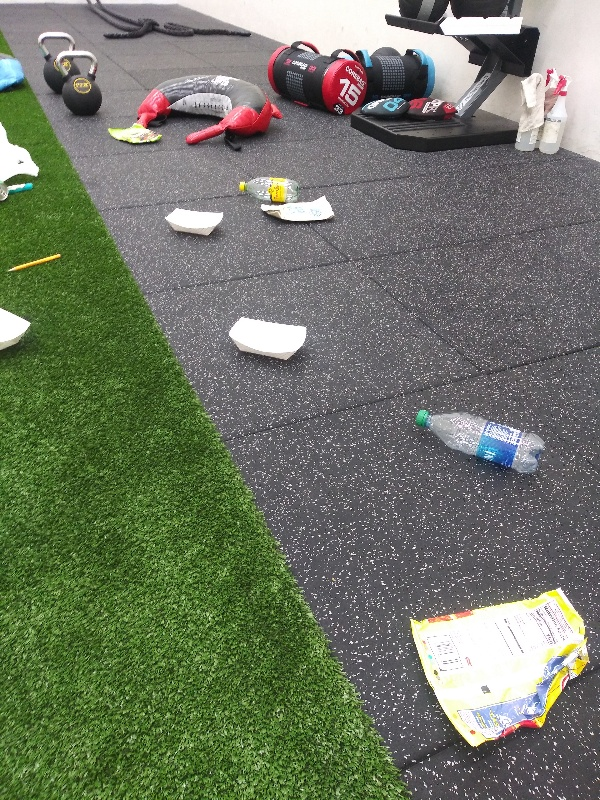bag: (400, 586, 598, 749), (257, 195, 340, 224), (105, 119, 168, 147)
bottle: (410, 399, 548, 479), (234, 174, 300, 203)
plate: (223, 311, 307, 362), (160, 206, 228, 241), (1, 306, 36, 356)
